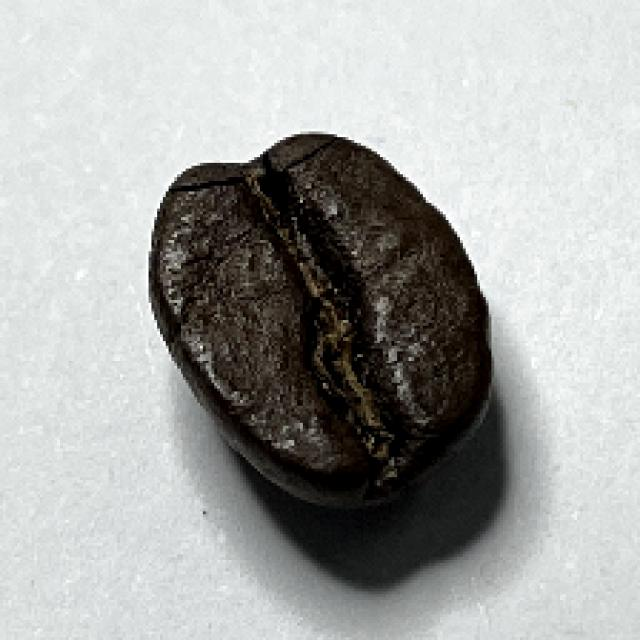bean: (145, 130, 492, 509)
